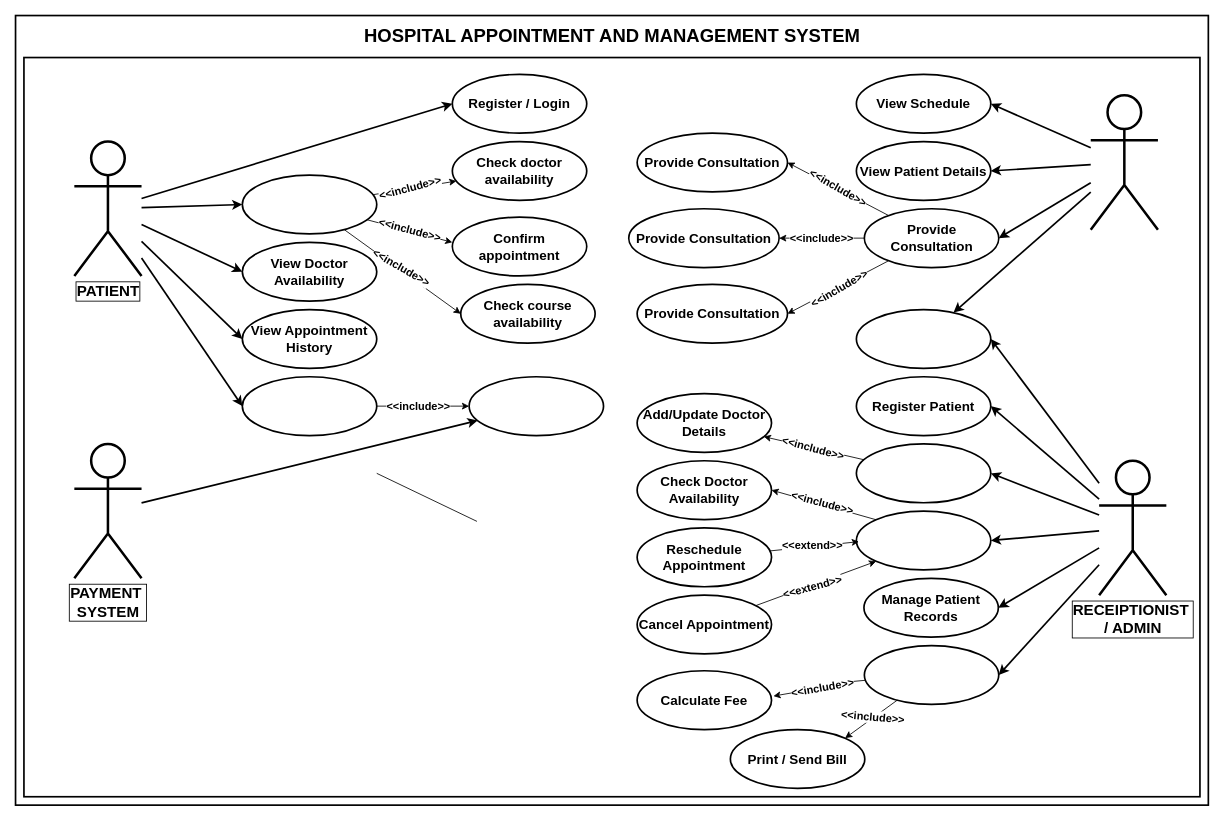
This 1223x820 diagram has some shape labels left out. Each missing label, with the centre of its shape:
Book Appointment: the point at 309,204
DOCTOR: the point at 1124,162
Generate Bill: the point at 931,674
Login: the point at 923,338
Make Payment: the point at 309,405
Manage Appointments: the point at 923,540
Manage doctors: the point at 923,473
Process payment: the point at 536,405
